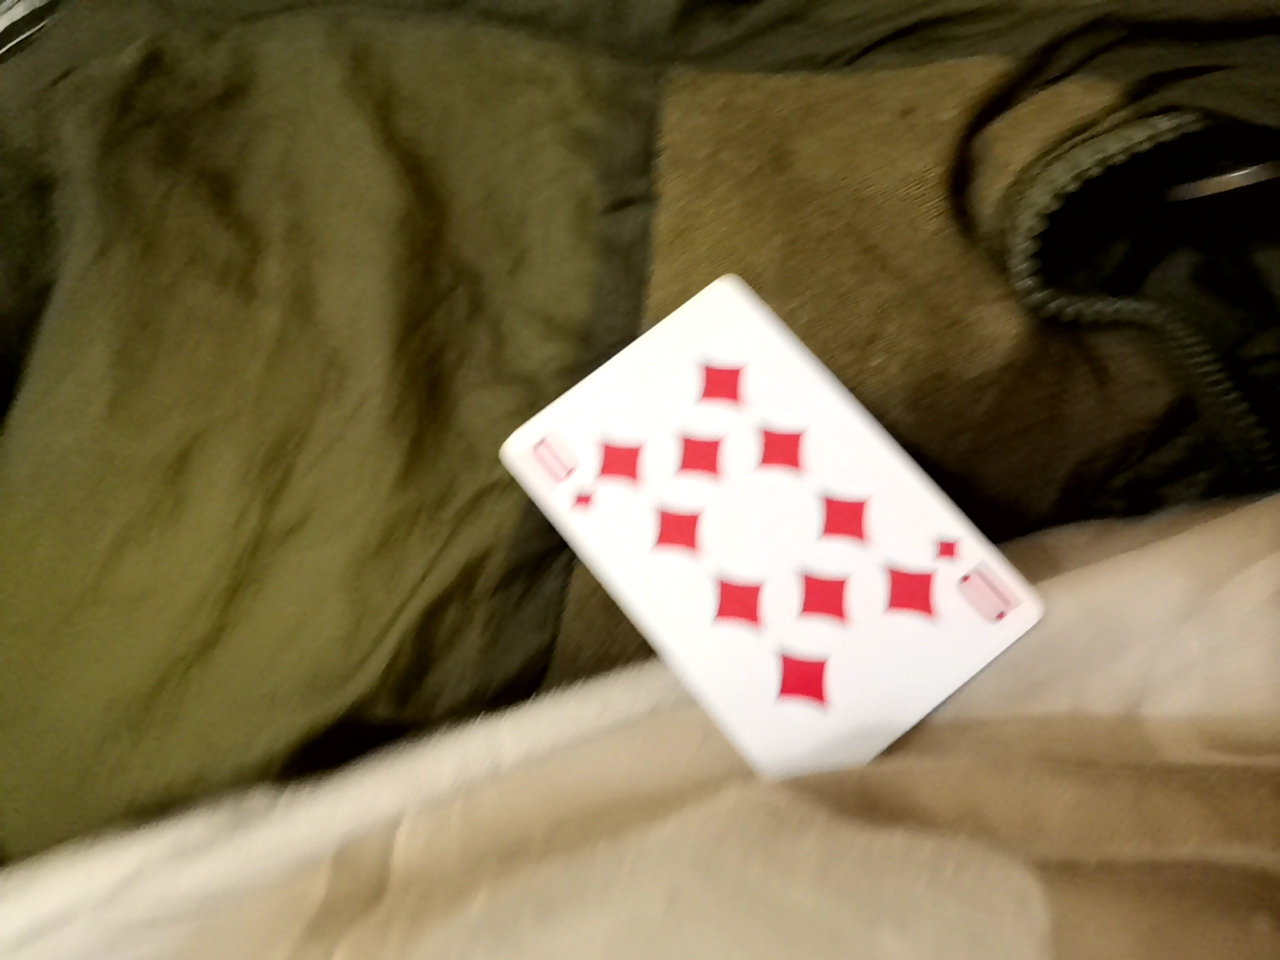fk 10: (415, 326, 982, 861)
